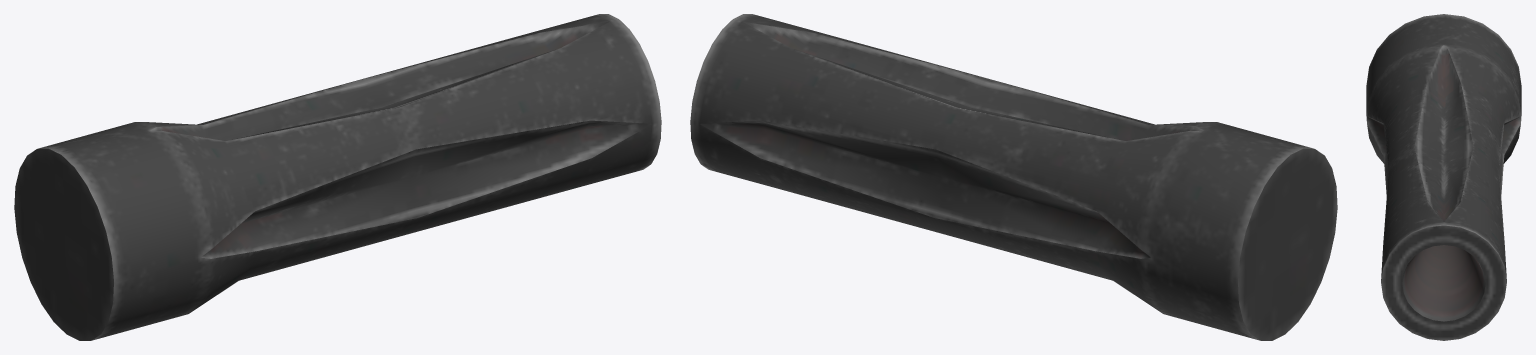
Rendered from ST_Muzzle_FlashHider_SR.FBX.
3 views of the same model, side by side, from view 1: azimuth 30°, elevation 25°; view 2: azimuth 150°, elevation 25°; view 3: azimuth 270°, elevation 25° (orthographic). The views are drawn at different scales.
Visible parts, largest first — view 1: ST_Muzzle_FlashHider_SR; view 2: ST_Muzzle_FlashHider_SR; view 3: ST_Muzzle_FlashHider_SR.
Boxes of the visible parts, x1=… form: ST_Muzzle_FlashHider_SR: x1=14, y1=14, x2=661, y2=340; ST_Muzzle_FlashHider_SR: x1=690, y1=14, x2=1337, y2=340; ST_Muzzle_FlashHider_SR: x1=1366, y1=14, x2=1521, y2=340.
Bounding box in the file's own units: 7.87 × 2.46 × 2.42.
Materials: 1 (1 with a texture image).
